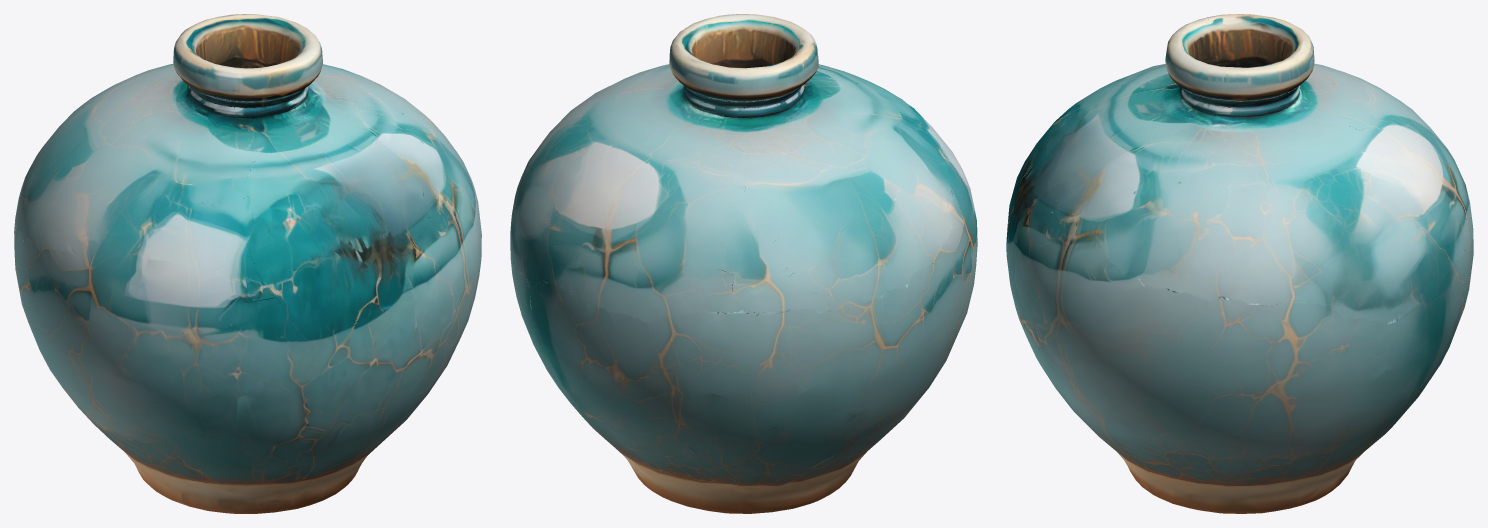
File: glazed_pot.glb
3 views of the same model, side by side, from view 1: azimuth 30°, elevation 25°; view 2: azimuth 150°, elevation 25°; view 3: azimuth 270°, elevation 25° (orthographic).
Visible parts, largest first — view 1: model; view 2: model; view 3: model.
Boxes of the visible parts, x1,y1,x2,y2 form: model: (14, 14, 481, 513); model: (510, 14, 977, 513); model: (1006, 14, 1473, 513).
Bounding box in the file's own units: 0.7871 × 0.8 × 0.7868.
1 material, 1 textured.
